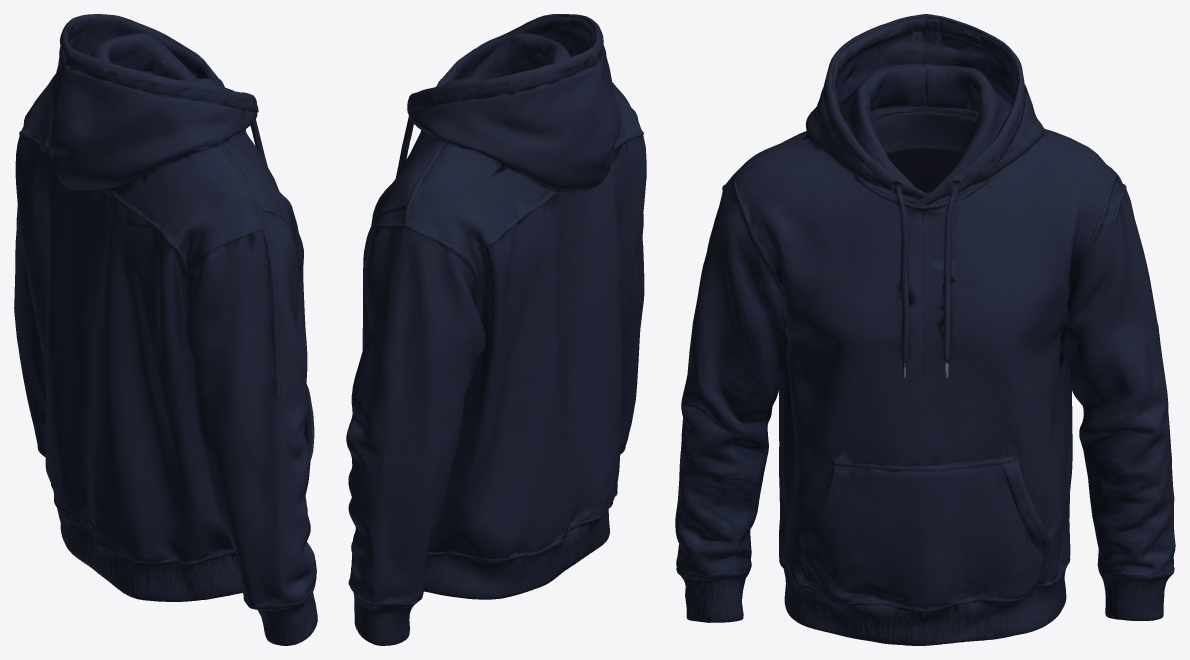
The model's file is HOODIE-PROM.glb.
3 renders of one model, left to right at view 1: azimuth 30°, elevation 25°; view 2: azimuth 150°, elevation 25°; view 3: azimuth 270°, elevation 25°, orthographic. The views are drawn at different scales.
Visible parts, largest first — view 1: tripo_node_60d087e9-9785-47bf-ac27-ab5797b7af06; view 2: tripo_node_60d087e9-9785-47bf-ac27-ab5797b7af06; view 3: tripo_node_60d087e9-9785-47bf-ac27-ab5797b7af06.
Part boxes in pixels (x1,y1,x2,y2): tripo_node_60d087e9-9785-47bf-ac27-ab5797b7af06: (14, 14, 317, 645); tripo_node_60d087e9-9785-47bf-ac27-ab5797b7af06: (346, 14, 646, 645); tripo_node_60d087e9-9785-47bf-ac27-ab5797b7af06: (675, 14, 1175, 645).
Bounding box in the file's own units: 0.4366 × 0.9785 × 0.8002.
Materials: 1 (1 with a texture image).
